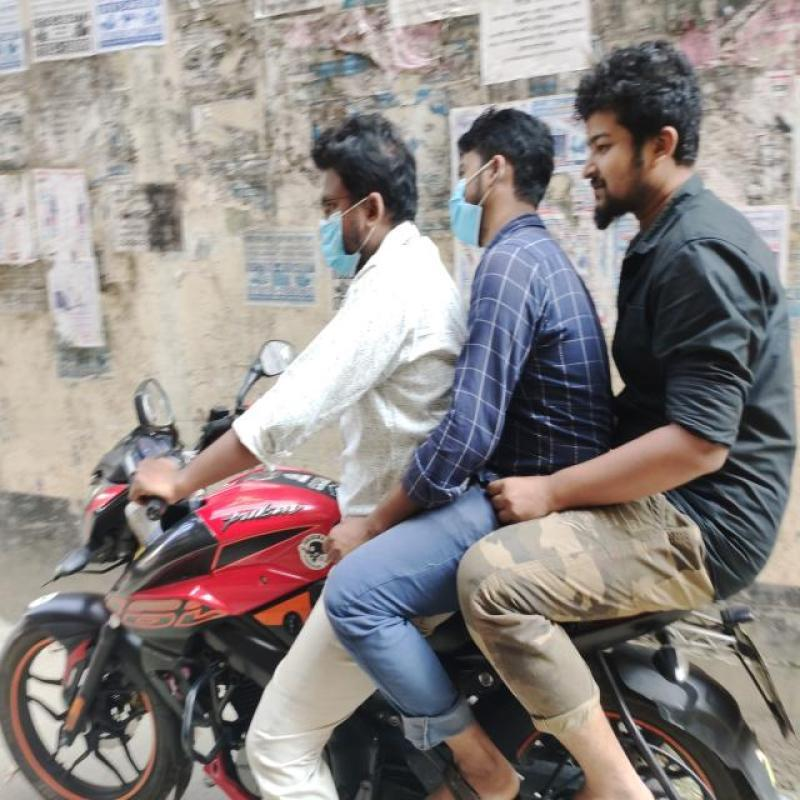nohelmet: (572, 54, 728, 242), (308, 118, 418, 280), (454, 110, 557, 272)
